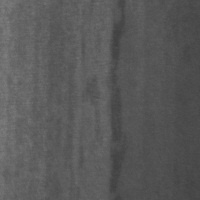inclusion: (84, 2, 131, 198)
